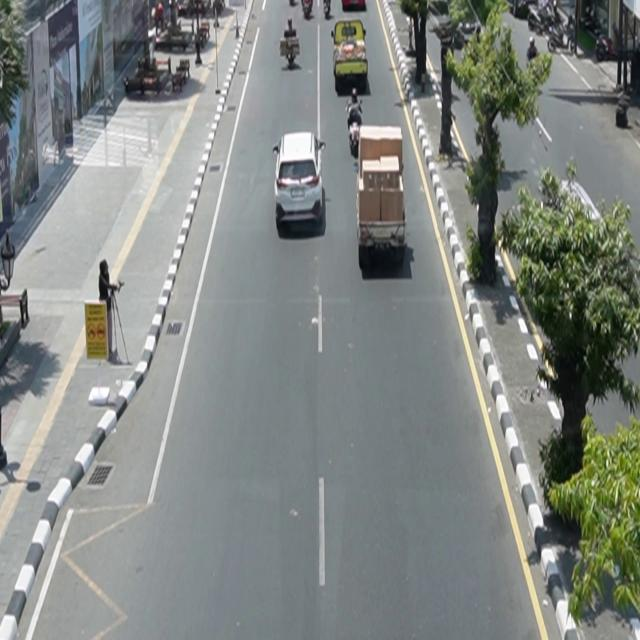car: (273, 132, 327, 230)
truck: (356, 125, 408, 270)
